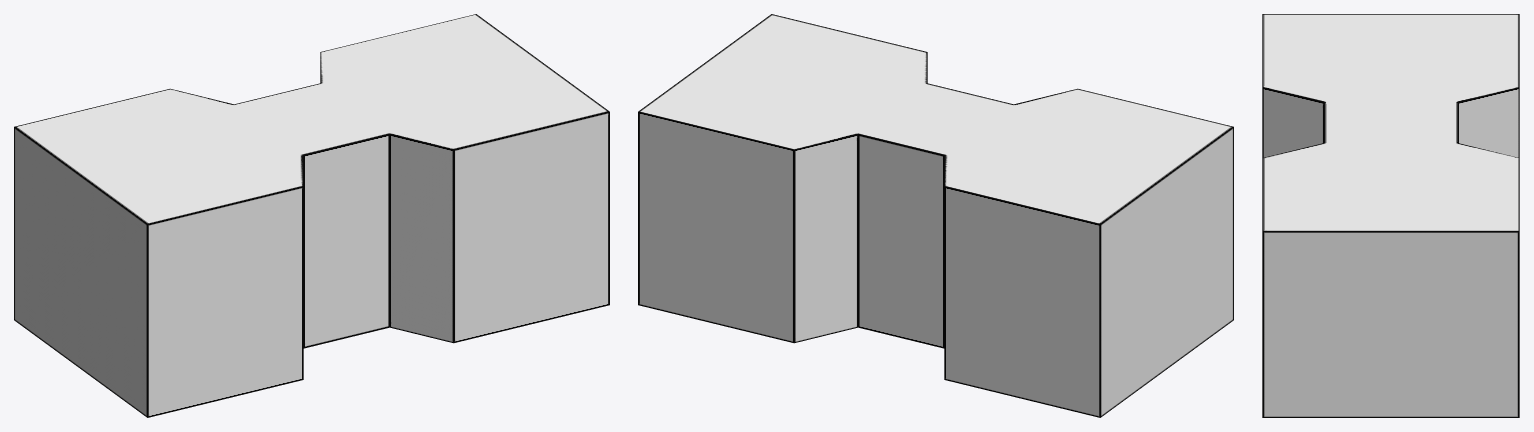
The model's file is robotic_lvl3.fbx.
3 renders of one model, left to right at view 1: azimuth 30°, elevation 25°; view 2: azimuth 150°, elevation 25°; view 3: azimuth 270°, elevation 25°, orthographic. The views are drawn at different scales.
Visible parts, largest first — view 1: lvl03; view 2: lvl03; view 3: lvl03.
Part boxes in pixels (x1,y1,x2,y2): lvl03: (14, 14, 609, 417); lvl03: (638, 14, 1233, 417); lvl03: (1262, 14, 1519, 417).
Bounding box in the file's own units: 0.15 × 0.06 × 0.075.
Materials: 1 (1 with a texture image).
